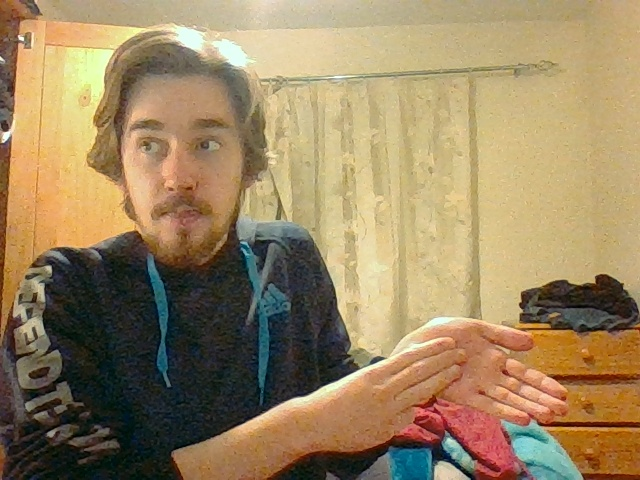mother: (365, 315, 571, 432)
